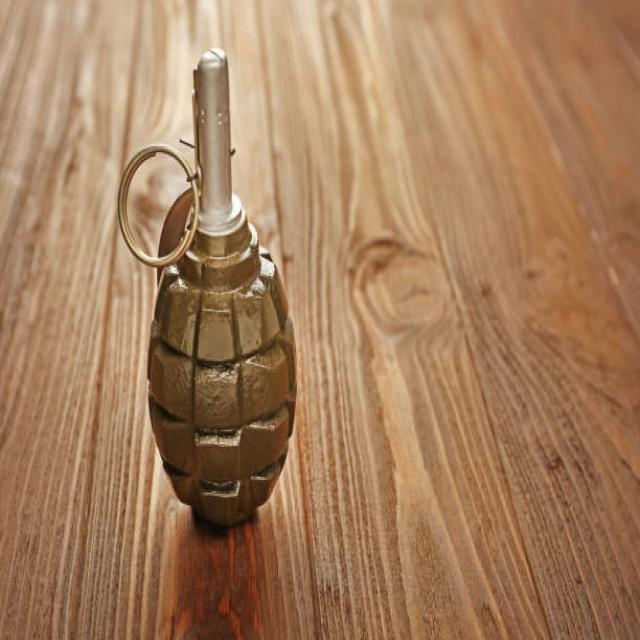grenade: (115, 46, 307, 528)
